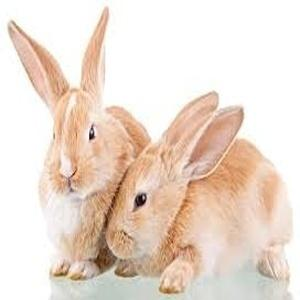rabbit: (10, 8, 289, 293)
